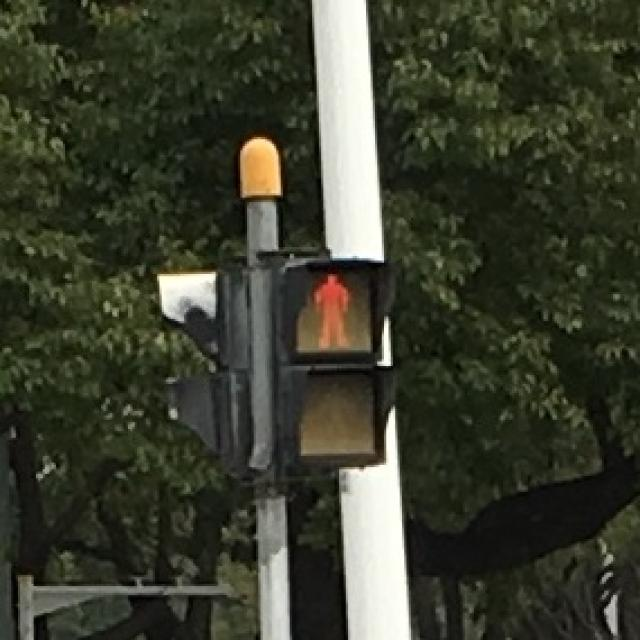red-crossing: (294, 262, 371, 352)
